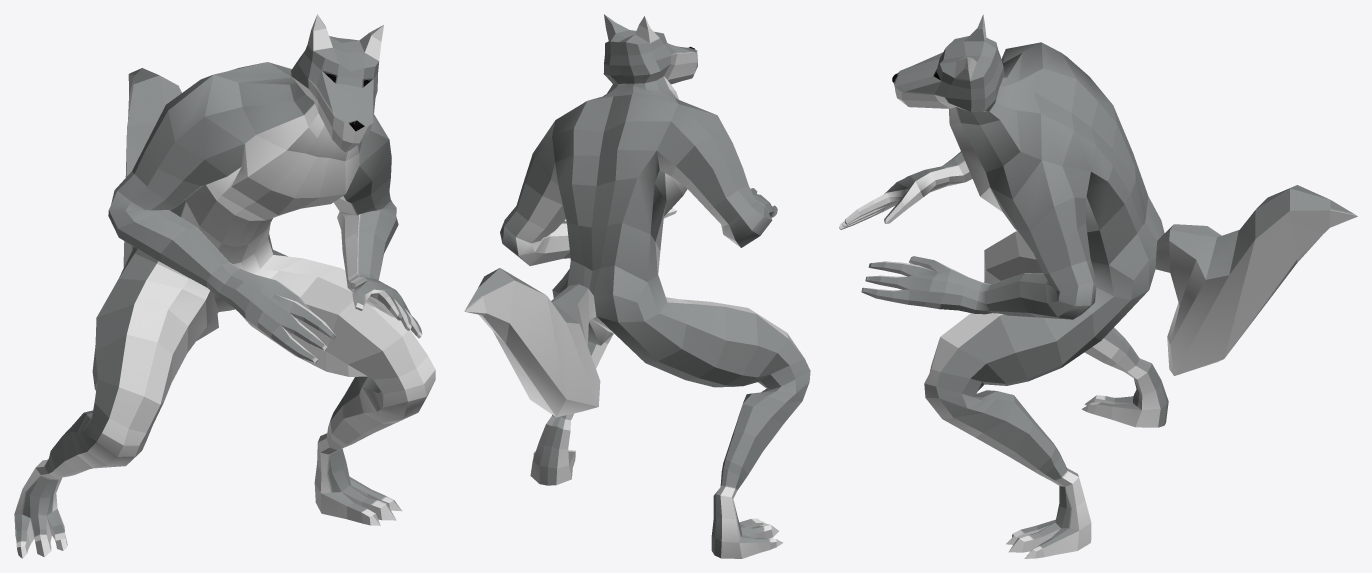
The model's file is WolfAttack(62).obj.
The picture shows the model from 3 angles, left to right: view 1: azimuth 30°, elevation 25°; view 2: azimuth 150°, elevation 25°; view 3: azimuth 270°, elevation 25°; orthographic projection. The views are drawn at different scales.
Parts seen in each view (by area): view 1: Box001; view 2: Box001; view 3: Box001.
Boxes of the visible parts, x1=… form: Box001: x1=14, y1=14, x2=435, y2=558; Box001: x1=464, y1=14, x2=810, y2=558; Box001: x1=839, y1=14, x2=1357, y2=558.
Size of the model in its own units: 84.6 by 123 by 116.
